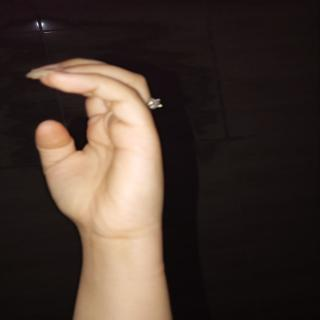JEEM: (18, 44, 183, 250)
